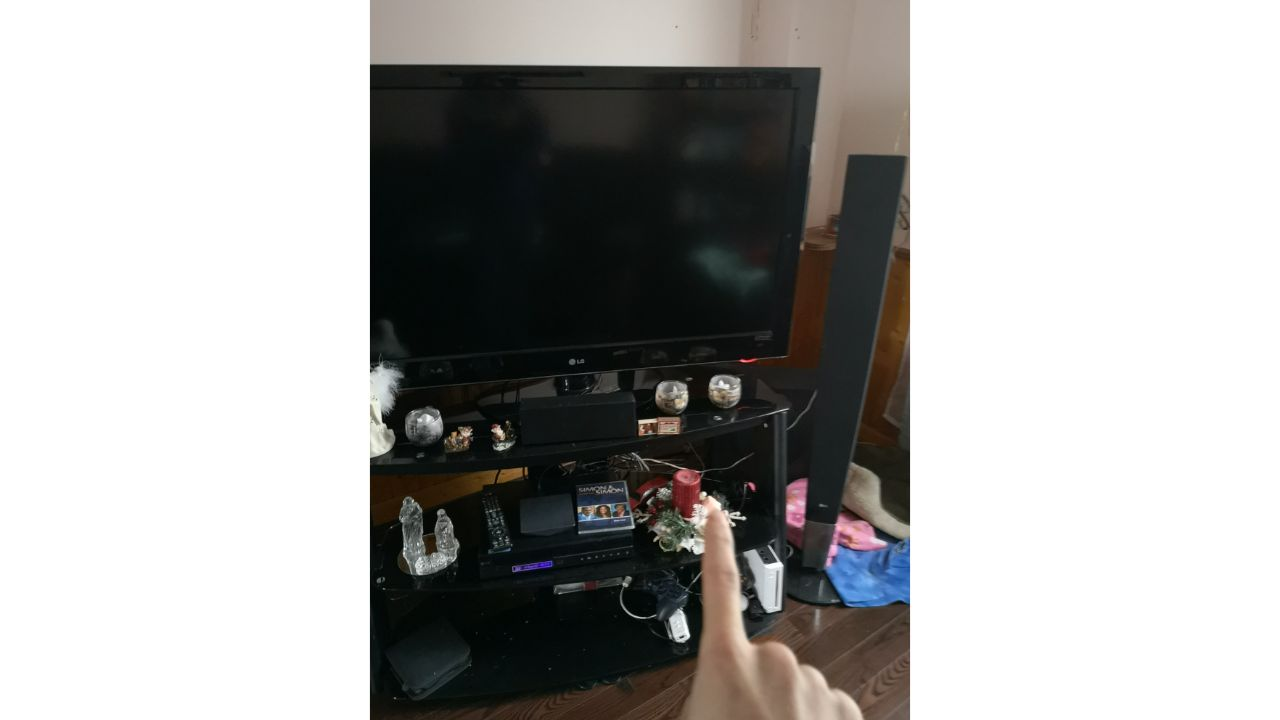finger: (674, 499, 859, 720)
